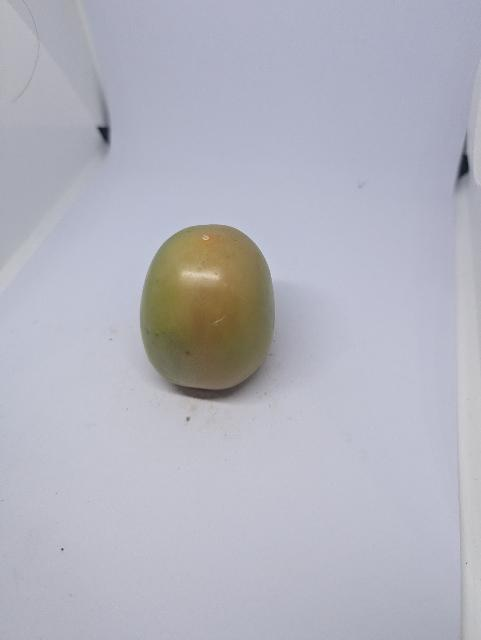breaker: (140, 225, 275, 390)
